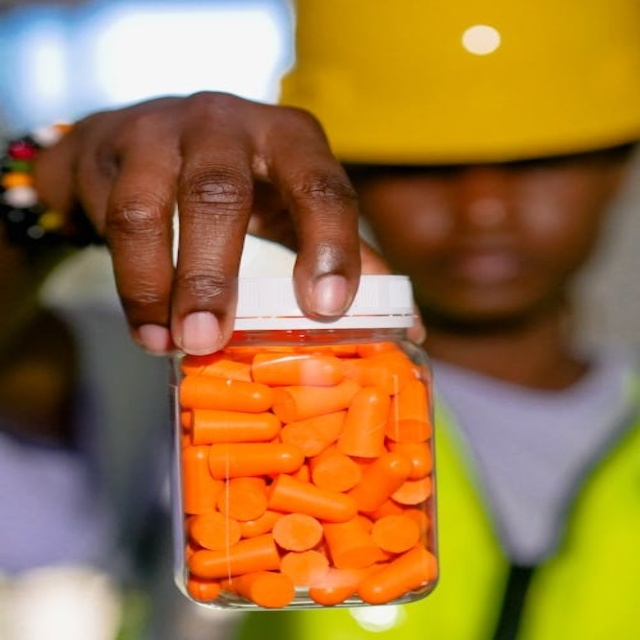Sin_guantes: (39, 88, 374, 363)
